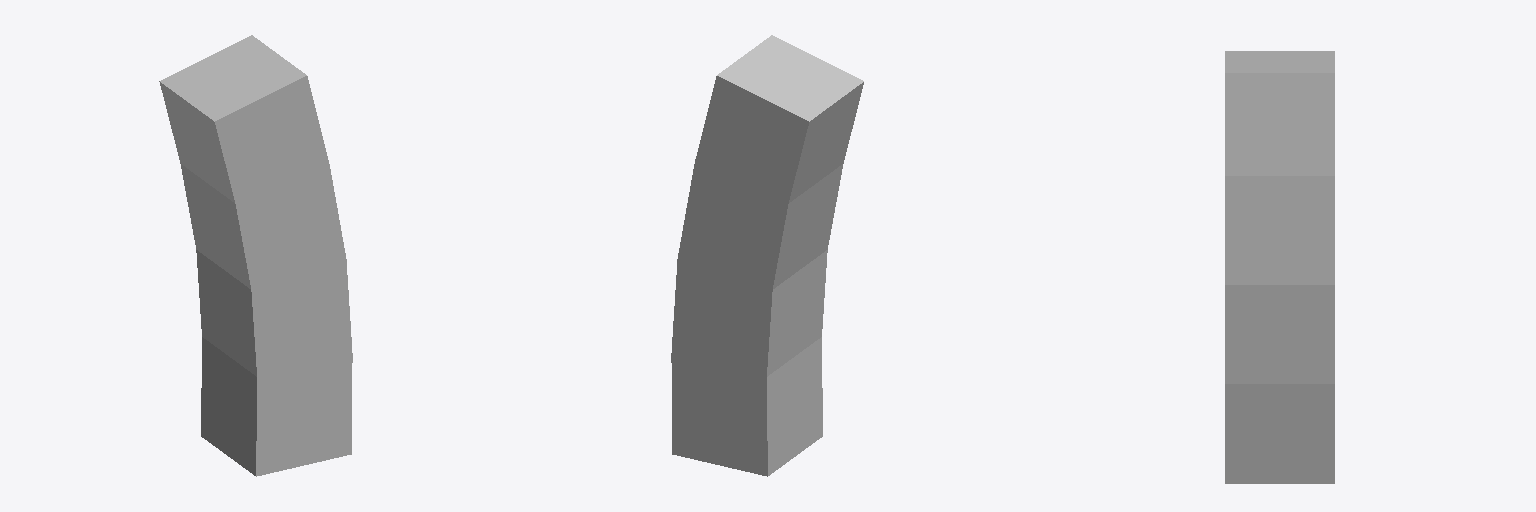
The model's file is Animation_000076.obj.
The picture shows the model from 3 angles: view 1: azimuth 30°, elevation 25°; view 2: azimuth 150°, elevation 25°; view 3: azimuth 270°, elevation 25°; orthographic projection.
Parts seen in each view (by area): view 1: Cube; view 2: Cube; view 3: Cube.
Part boxes in pixels (bbox=[...]): Cube: bbox=[159, 35, 352, 476]; Cube: bbox=[671, 35, 863, 476]; Cube: bbox=[1225, 51, 1334, 483].
Bounding box in the file's own units: 1.93 × 5.2 × 1.33.